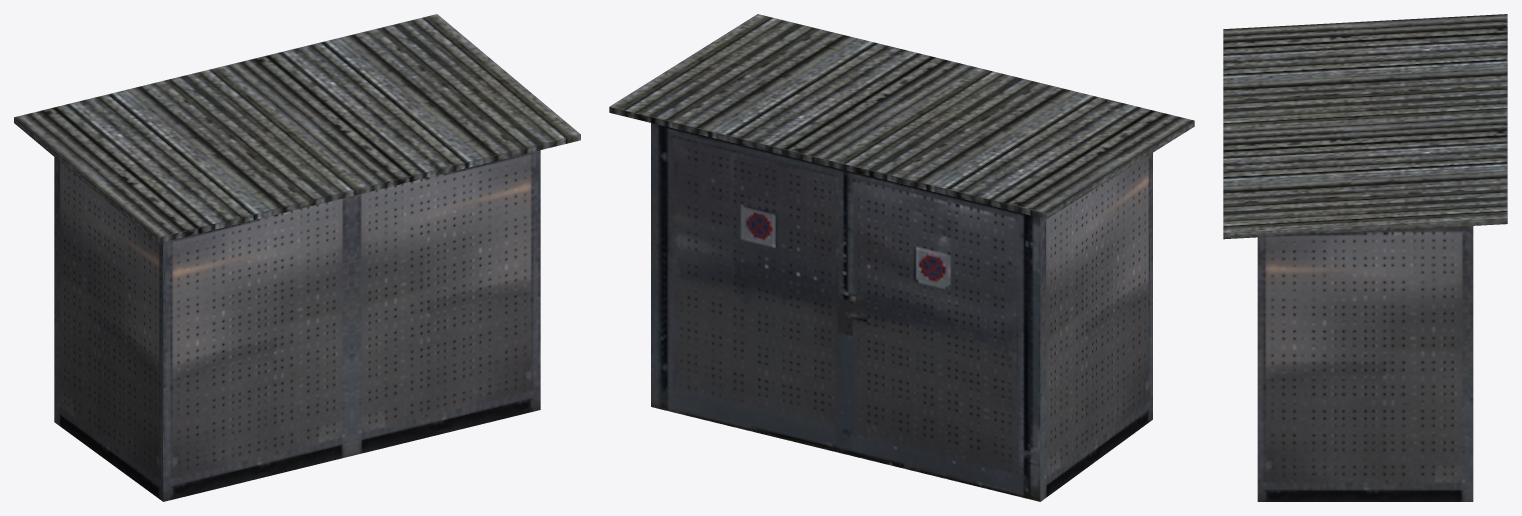
Rendered from Shack01a.obj.
3 renders of one model, left to right at view 1: azimuth 30°, elevation 25°; view 2: azimuth 150°, elevation 25°; view 3: azimuth 270°, elevation 25°, orthographic. The views are drawn at different scales.
Parts seen in each view (by area): view 1: Shack01a; view 2: Shack01a; view 3: Shack01a.
Boxes of the visible parts, <box> form: Shack01a: <box>14,14,580,501</box>; Shack01a: <box>609,14,1194,501</box>; Shack01a: <box>1223,14,1507,501</box>.
Bounding box in the file's own units: 5.96 × 4.01 × 3.51.
